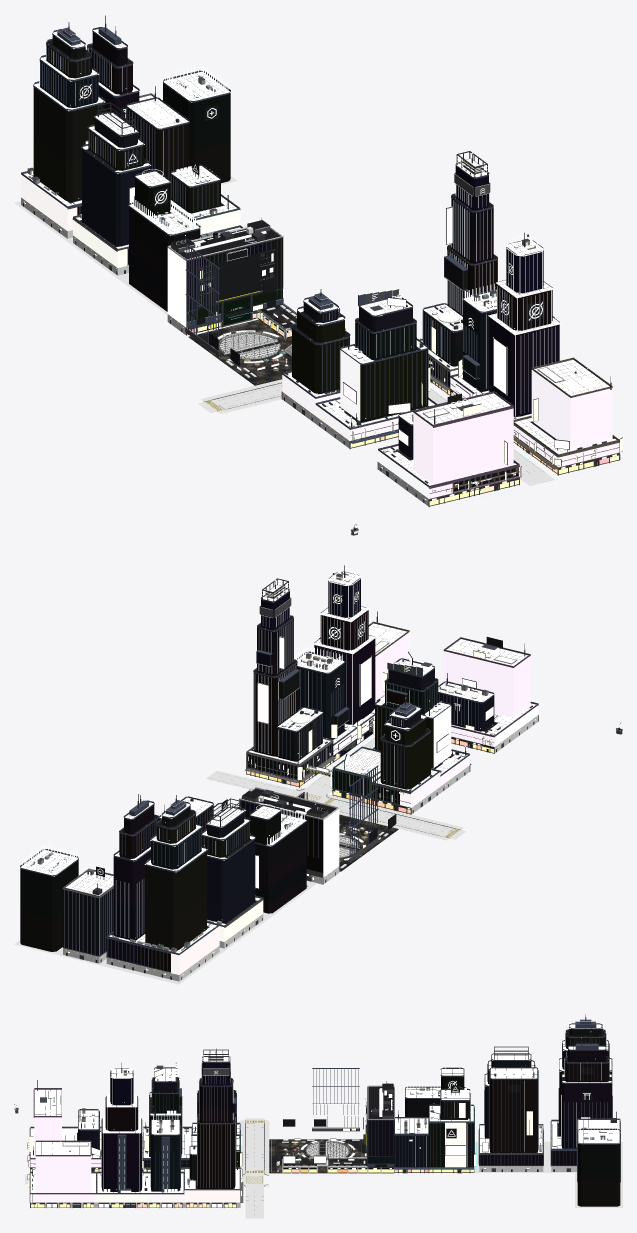
Rendered from world-phone-plaza.glb.
3 views of the same model, one above another, from view 1: azimuth 30°, elevation 25°; view 2: azimuth 150°, elevation 25°; view 3: azimuth 270°, elevation 25° (orthographic). The views are drawn at different scales.
Parts seen in each view (by area): view 1: plaza_corporate, plaza_trim, plaza_glow, plaza_facade, plaza_board_frame, plaza_roof, plaza_concrete, plaza_paint, plaza_metal, plaza_billboard, plaza_asphalt, plaza_sign (+5 smaller); view 2: plaza_corporate, plaza_trim, plaza_glow, plaza_facade, plaza_concrete, plaza_asphalt, plaza_board_frame, plaza_roof, plaza_sidewalk, plaza_billboard, plaza_metal, plaza_paint (+4 smaller); view 3: plaza_corporate, plaza_trim, plaza_glow, plaza_facade, plaza_roof, plaza_paint, plaza_asphalt, plaza_board_frame, plaza_sidewalk, plaza_concrete, plaza_metal, plaza_shop (+6 smaller).
Part boxes in pixels (x1,y1,x2,y2): plaza_corporate: (33,32,559,491); plaza_trim: (21,27,619,507); plaza_glow: (24,14,616,485); plaza_facade: (21,174,619,498); plaza_board_frame: (25,82,622,498); plaza_roof: (31,28,614,473); plaza_concrete: (21,197,516,506); plaza_paint: (188,304,543,478); plaza_metal: (68,15,620,485); plaza_billboard: (85,141,569,449); plaza_asphalt: (198,383,554,485); plaza_sign: (24,202,622,500); plaza_corporate: (20,579,494,971); plaza_trim: (20,580,538,972); plaza_glow: (20,564,536,953); plaza_facade: (70,632,538,974); plaza_concrete: (63,715,538,981); plaza_asphalt: (206,738,466,839); plaza_board_frame: (70,590,502,973); plaza_roof: (20,571,517,950); plaza_sidewalk: (14,743,491,984); plaza_billboard: (255,637,493,888); plaza_metal: (92,565,532,926); plaza_paint: (210,738,458,871); plaza_corporate: (78,1028,620,1206); plaza_trim: (29,1019,620,1207); plaza_glow: (30,1013,619,1204); plaza_facade: (30,1117,576,1202); plaza_roof: (31,1024,620,1192); plaza_paint: (246,1120,367,1214); plaza_asphalt: (25,1118,266,1218); plaza_board_frame: (27,1042,594,1207); plaza_sidewalk: (33,1120,622,1207); plaza_concrete: (29,1085,576,1207); plaza_metal: (30,1014,616,1207); plaza_shop: (30,1169,473,1207).
Bounding box in the file's own units: 191 × 133 × 458.
